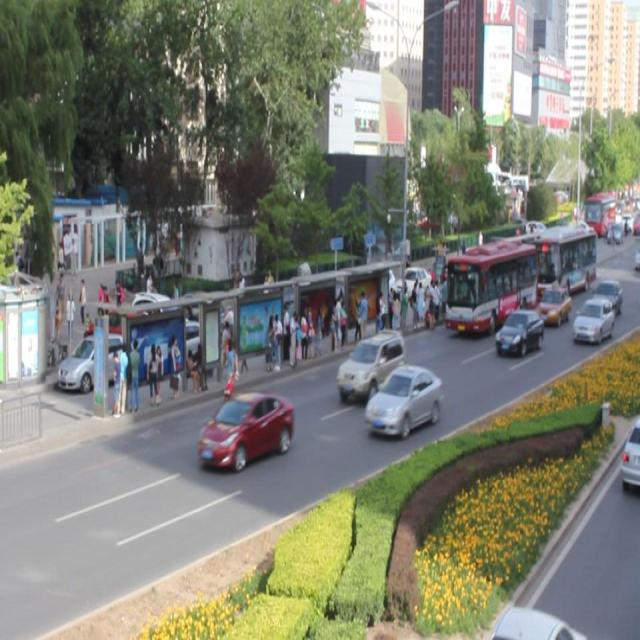car: (198, 392, 294, 470), (364, 363, 442, 435), (338, 332, 403, 398), (496, 307, 541, 358), (572, 296, 612, 342), (534, 286, 568, 324), (589, 278, 620, 312)
van: (445, 240, 535, 336), (524, 218, 592, 296)
